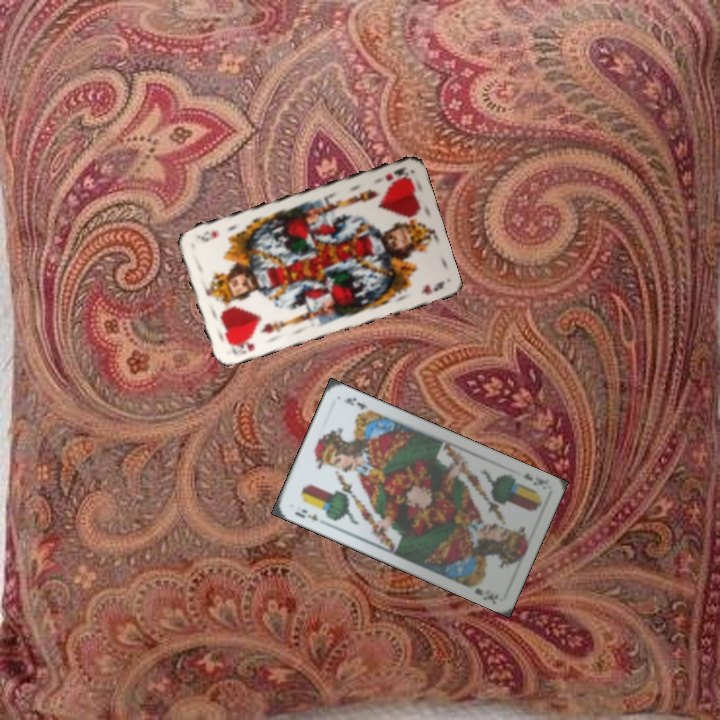EK: (518, 469, 551, 488), (291, 505, 320, 524)
HK: (226, 333, 257, 358), (381, 163, 411, 184)
